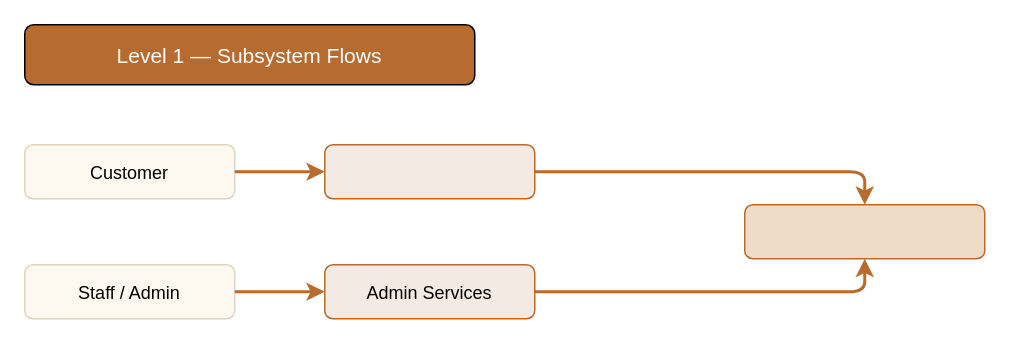
Some shapes in this 1010 by 344 pixel diagram are drawn without their labels. The shapes that lost their labels are listed below. From the top down, each one's centre as x and y in pixels, then its label:
At pixel 429 171: "Order Service".
At pixel 864 231: "MongoDB Atlas".
